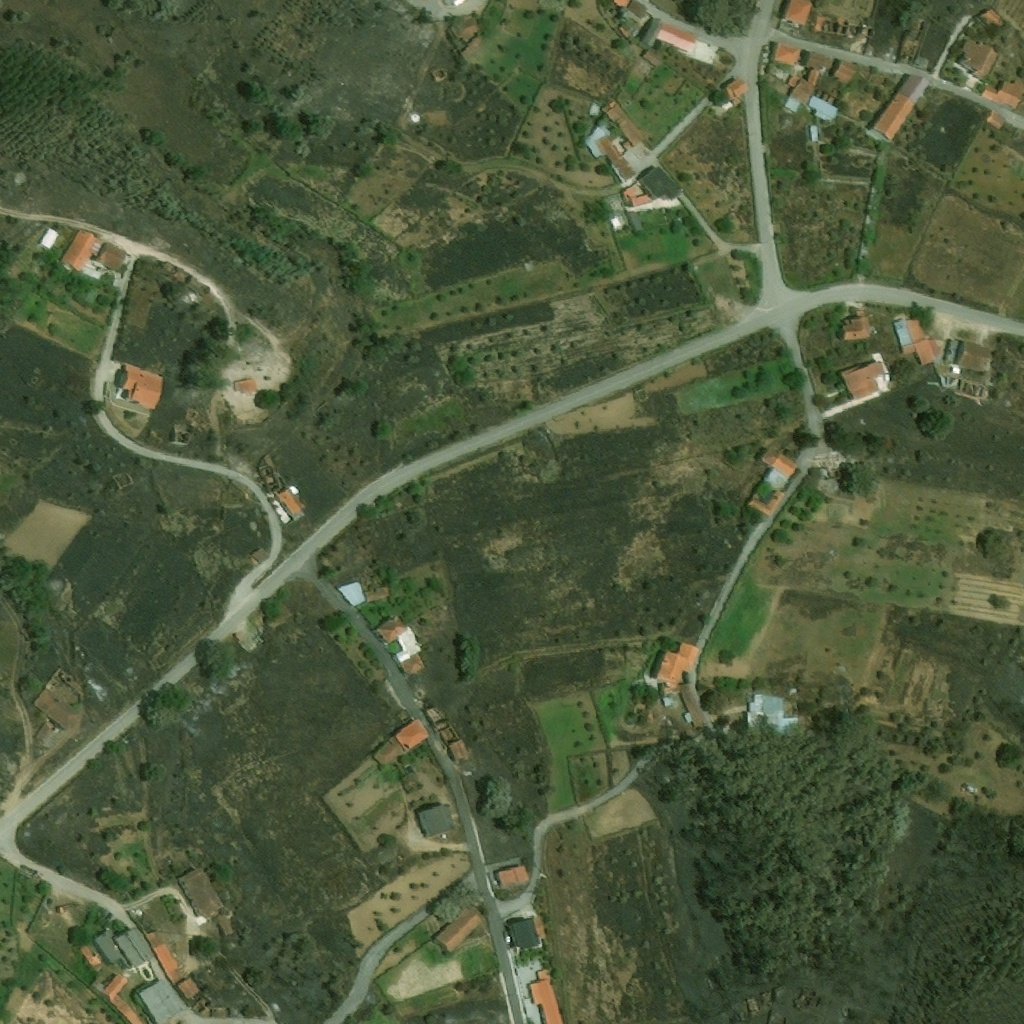0 no-damage: (745, 444, 802, 517), (870, 72, 930, 141), (375, 612, 425, 675), (93, 925, 155, 971), (116, 362, 168, 411), (745, 693, 803, 736), (135, 974, 184, 1023), (177, 865, 222, 918), (837, 354, 887, 401), (650, 641, 701, 687), (144, 928, 185, 985), (600, 98, 645, 149), (101, 973, 145, 1023), (892, 318, 942, 361), (435, 905, 480, 952), (526, 968, 564, 1023), (954, 36, 999, 78), (60, 228, 101, 272), (638, 165, 684, 204), (505, 914, 550, 951), (677, 680, 711, 728), (942, 337, 991, 370), (652, 21, 697, 54), (981, 79, 1023, 112), (416, 803, 454, 837), (394, 717, 430, 751), (372, 735, 405, 769), (96, 238, 129, 270), (786, 73, 817, 106), (620, 184, 659, 208), (582, 125, 607, 161), (689, 36, 720, 65), (808, 95, 839, 123), (274, 488, 303, 517), (496, 863, 529, 887), (336, 580, 365, 607), (784, 0, 815, 25), (175, 974, 202, 1002), (724, 77, 749, 106), (832, 57, 859, 83), (78, 941, 103, 968), (805, 50, 834, 73), (843, 316, 870, 339), (774, 43, 802, 64), (642, 45, 664, 67), (365, 585, 391, 602), (34, 722, 55, 743), (40, 227, 60, 249), (986, 111, 1008, 130), (627, 0, 649, 18), (627, 210, 643, 233), (250, 546, 270, 563), (234, 378, 256, 393), (782, 96, 800, 113), (614, 23, 631, 40), (610, 213, 626, 231), (807, 68, 818, 84), (809, 124, 819, 141), (661, 696, 673, 708), (621, 140, 632, 151)
1 minor-damage: (978, 6, 1004, 30)
2 major-damage: (31, 685, 81, 730), (447, 739, 468, 760)
3 destroyed: (894, 14, 929, 66), (860, 21, 899, 60), (814, 15, 862, 39), (815, 453, 849, 479), (161, 260, 192, 285), (258, 465, 284, 493), (959, 374, 989, 398), (424, 705, 447, 728), (173, 423, 189, 443), (189, 280, 207, 295), (658, 716, 674, 730), (868, 71, 883, 83), (644, 675, 658, 686)
4 un-classified: (477, 0, 491, 14), (832, 721, 845, 735), (614, 0, 632, 9)
